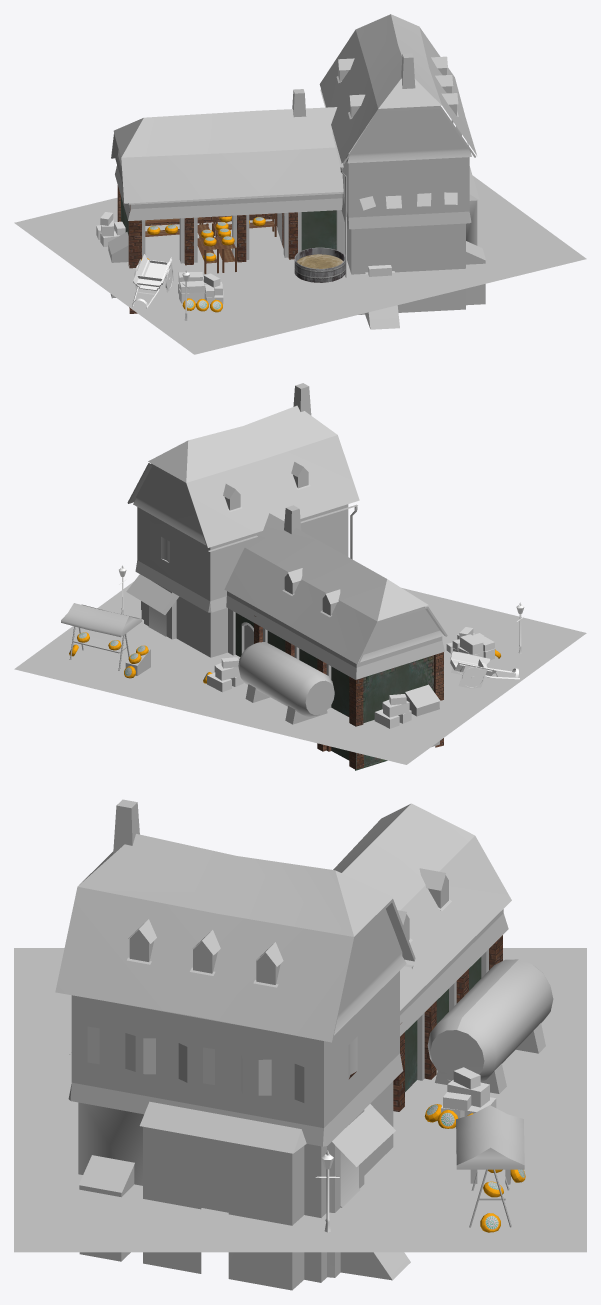
Rendered from dairy.gltf.
The picture shows the model from 3 angles, top to bottom: view 1: azimuth 30°, elevation 25°; view 2: azimuth 150°, elevation 25°; view 3: azimuth 270°, elevation 25°; orthographic projection. The views are drawn at different scales.
Visible parts, largest first — view 1: _lod0, ground, prop_carriage_b1_1, prop_cheese_boxes_1, prop_nac_boxes_4; view 2: _lod0, ground, prop_carriage_b1_1, prop_cheese_boxes_1, prop_nac_boxes_4, prop_nac_boxes_3; view 3: _lod0, ground, prop_nac_boxes_3.
Part boxes in pixels (box(x1,y1,x2,y2)): _lod0: box(108, 14, 485, 329); ground: box(14, 175, 586, 354); prop_carriage_b1_1: box(132, 254, 173, 308); prop_cheese_boxes_1: box(178, 272, 223, 304); prop_nac_boxes_4: box(96, 212, 125, 246); _lod0: box(61, 383, 447, 770); ground: box(14, 559, 586, 764); prop_carriage_b1_1: box(450, 651, 519, 688); prop_cheese_boxes_1: box(446, 627, 494, 660); prop_nac_boxes_4: box(374, 694, 411, 728); prop_nac_boxes_3: box(207, 657, 243, 692); _lod0: box(55, 799, 553, 1290); ground: box(14, 948, 586, 1252); prop_nac_boxes_3: box(441, 1067, 496, 1118).
Size of what is drawn, in the model's own units: 4.4 by 2.76 by 3.5.
